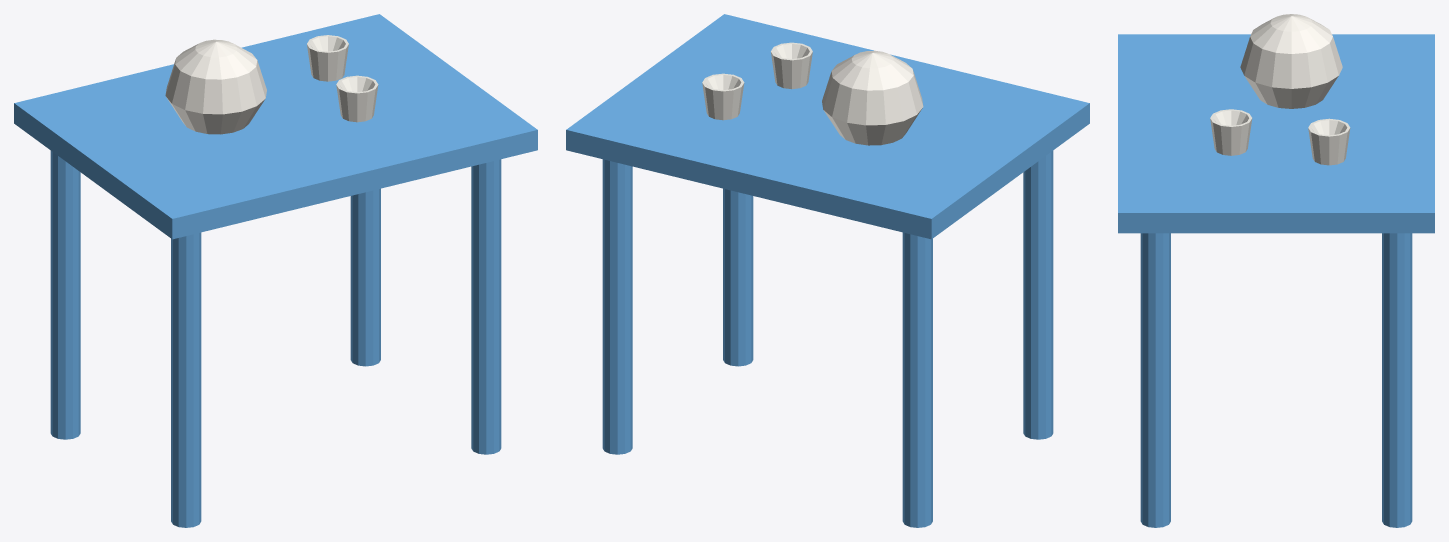
The model's file is SM_Prop_PlasticTable.fbx.
3 renders of one model, left to right at view 1: azimuth 30°, elevation 25°; view 2: azimuth 150°, elevation 25°; view 3: azimuth 270°, elevation 25°, orthographic.
Parts seen in each view (by area): view 1: Top, Leg_-0.23_-0.16, Leg_0.23_-0.16, Leg_-0.23_0.16, Teapot, Leg_0.23_0.16, Cup1, Cup2; view 2: Top, Leg_-0.23_0.16, Leg_0.23_0.16, Leg_-0.23_-0.16, Teapot, Leg_0.23_-0.16, Cup1, Cup2; view 3: Top, Leg_0.23_-0.16, Leg_0.23_0.16, Teapot, Cup1, Cup2.
Part boxes in pixels (box(x1,y1,x2,y2)): Top: box(14, 14, 537, 239); Leg_-0.23_-0.16: box(171, 232, 201, 527); Leg_0.23_-0.16: box(471, 159, 501, 454); Leg_-0.23_0.16: box(50, 150, 80, 439); Teapot: box(165, 39, 266, 134); Leg_0.23_0.16: box(350, 188, 380, 366); Cup1: box(336, 75, 378, 122); Cup2: box(307, 35, 348, 81); Top: box(566, 14, 1089, 239); Leg_-0.23_0.16: box(902, 232, 932, 527); Leg_0.23_0.16: box(602, 159, 632, 454); Leg_-0.23_-0.16: box(1023, 150, 1053, 439); Teapot: box(822, 50, 923, 145); Leg_0.23_-0.16: box(723, 188, 753, 366); Cup1: box(770, 42, 812, 89); Cup2: box(702, 73, 744, 120); Top: box(1118, 34, 1434, 233); Leg_0.23_-0.16: box(1140, 233, 1170, 527); Leg_0.23_0.16: box(1382, 233, 1412, 527); Teapot: box(1240, 14, 1342, 108); Cup1: box(1210, 109, 1252, 155); Cup2: box(1308, 118, 1350, 165).
Bounding box in the file's own units: 0.56 × 0.595 × 0.42.
